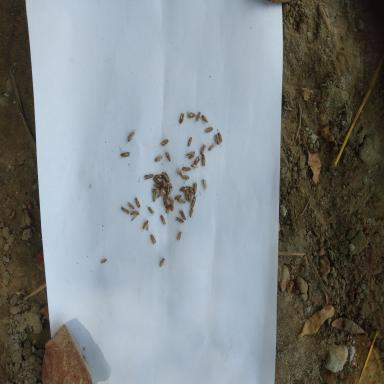pbw: (119, 146, 130, 158), (150, 192, 158, 208), (175, 229, 184, 243), (128, 129, 135, 145), (199, 143, 208, 155), (178, 207, 186, 220), (133, 198, 140, 212), (140, 220, 148, 232), (164, 150, 172, 162), (190, 196, 197, 209), (181, 174, 190, 184), (202, 176, 208, 191), (151, 188, 159, 199), (188, 185, 196, 196), (184, 190, 190, 204), (149, 234, 156, 246), (142, 172, 154, 179), (181, 166, 191, 174), (162, 172, 170, 182), (160, 213, 166, 226), (161, 197, 168, 208), (186, 111, 195, 119), (201, 114, 208, 124), (158, 139, 168, 146), (175, 166, 182, 176), (178, 186, 188, 193), (176, 198, 186, 205), (154, 155, 164, 162), (174, 217, 184, 224), (195, 111, 201, 122), (187, 137, 192, 150), (202, 154, 206, 170), (193, 156, 201, 164), (218, 131, 222, 147), (208, 143, 216, 151), (204, 126, 213, 133), (180, 112, 185, 124), (148, 206, 154, 216), (153, 176, 160, 184), (121, 207, 129, 214), (166, 181, 173, 189), (193, 180, 197, 194), (184, 151, 195, 156), (214, 134, 219, 145), (174, 194, 183, 200), (152, 183, 161, 189), (154, 174, 164, 179), (162, 177, 167, 187), (165, 204, 170, 214), (127, 202, 134, 209), (166, 184, 170, 196), (190, 164, 198, 170), (159, 258, 164, 267), (170, 200, 174, 211), (100, 258, 107, 264), (160, 187, 164, 197), (190, 208, 194, 218), (162, 187, 167, 195), (188, 191, 191, 203), (168, 196, 172, 204), (188, 155, 195, 159), (153, 187, 160, 191)
